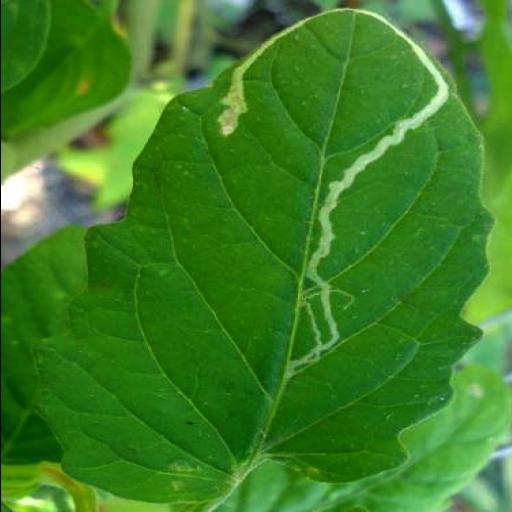Leaf Miner: (27, 8, 497, 504)
